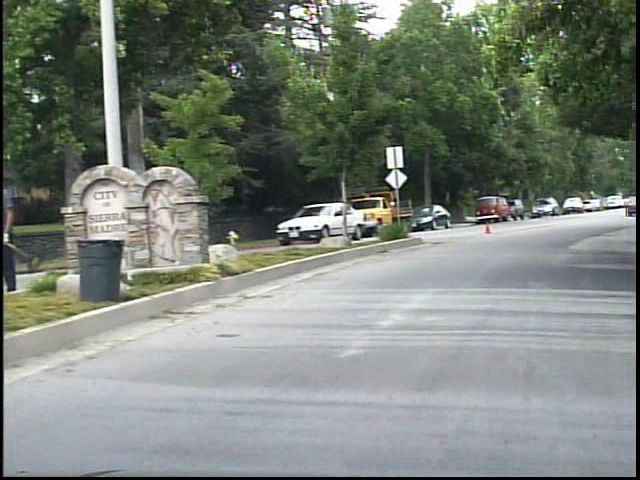person: (5, 166, 38, 297)
